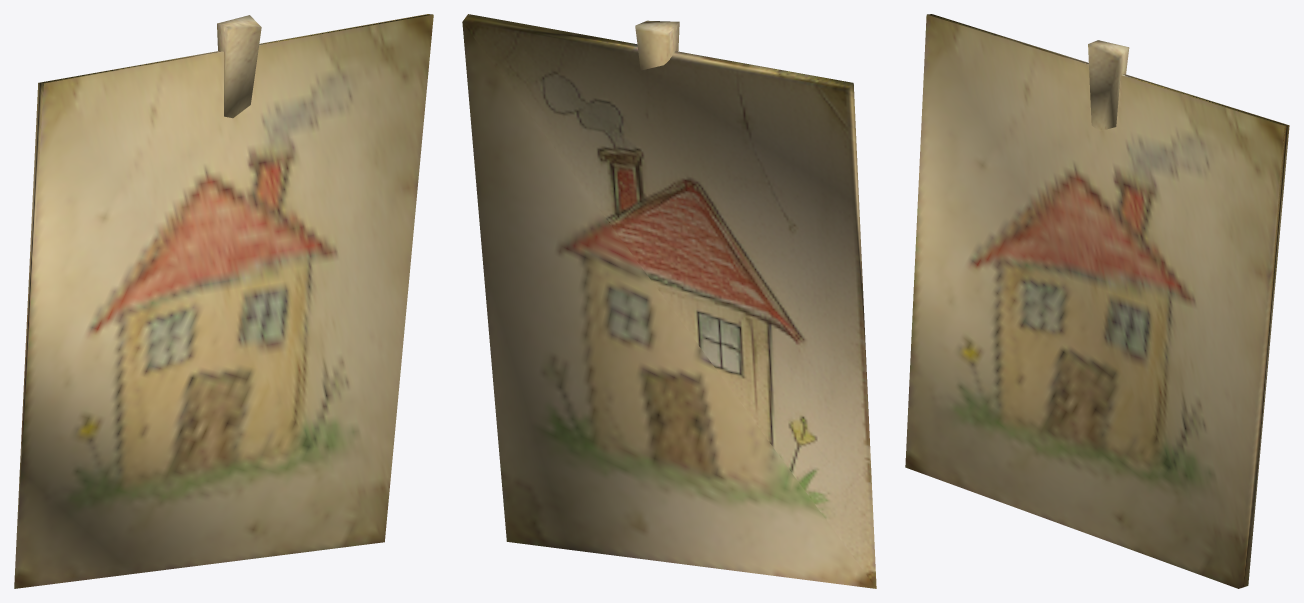
File: picture1.fbx
3 views of the same model, side by side, from view 1: azimuth 30°, elevation 25°; view 2: azimuth 150°, elevation 25°; view 3: azimuth 330°, elevation 25° (orthographic). The views are drawn at different scales.
Visible parts, largest first — view 1: picture1; view 2: picture1; view 3: picture1.
Part boxes in pixels (x1,y1,x2,y2): picture1: [14, 14, 433, 588]; picture1: [462, 14, 876, 588]; picture1: [905, 14, 1289, 588].
Bounding box in the file's own units: 181 × 231 × 8.9.
Materials: 1 (1 with a texture image).
